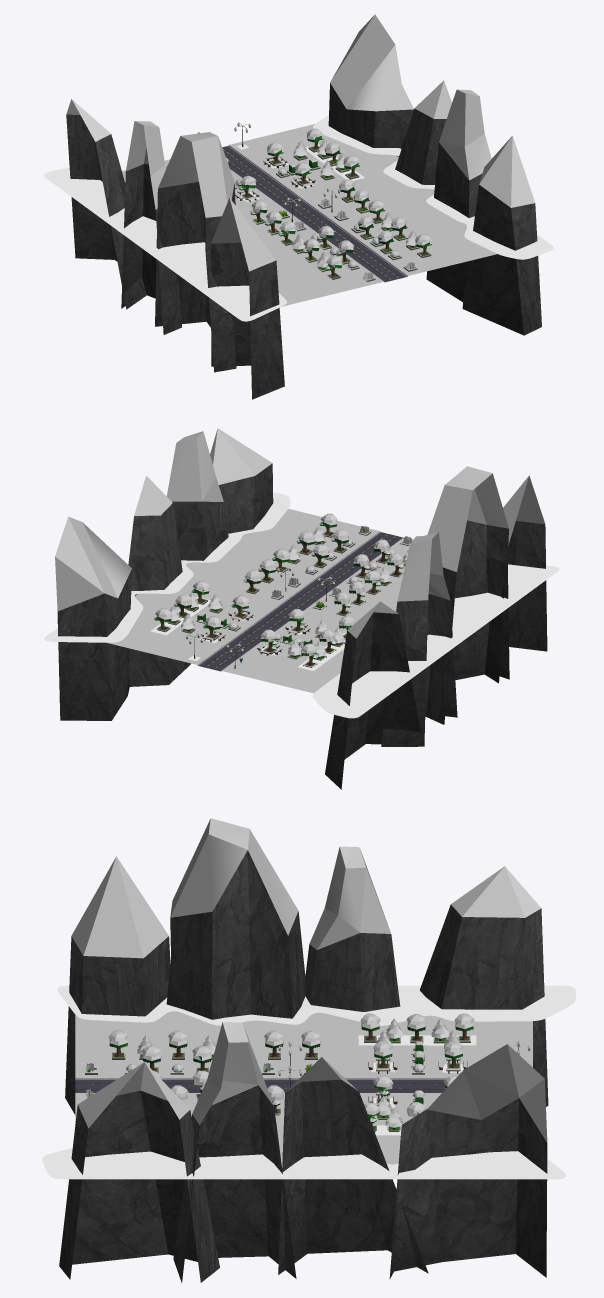
The model's file is citywinter_05.fbx.
The picture shows the model from 3 angles, top to bottom: view 1: azimuth 30°, elevation 25°; view 2: azimuth 150°, elevation 25°; view 3: azimuth 270°, elevation 25°; orthographic projection. The views are drawn at different scales.
Parts seen in each view (by area): view 1: City_05; view 2: City_05; view 3: City_05.
Part boxes in pixels (x1,y1,x2,y2): City_05: (44,14,553,399); City_05: (44,428,559,789); City_05: (42,818,575,1282).
Bounding box in the file's own units: 22617 × 13384 × 25170.
